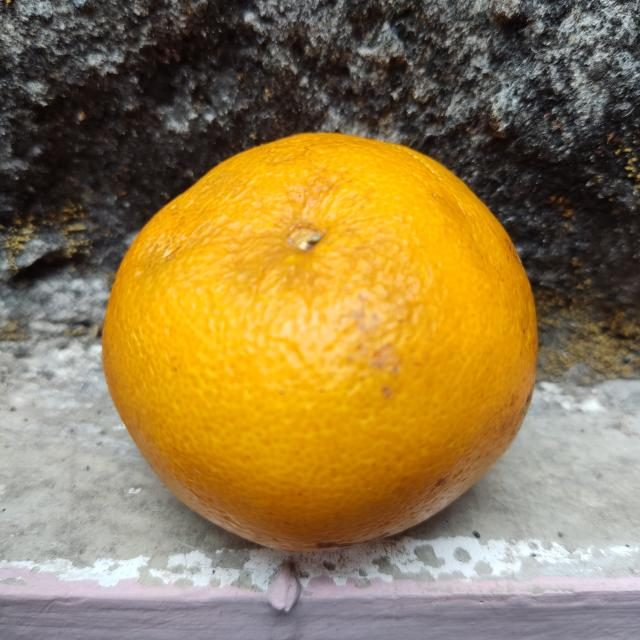orange: (97, 129, 541, 559)
